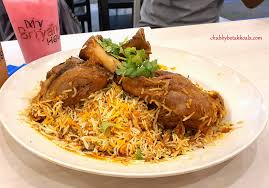briyani: (34, 31, 237, 160)
